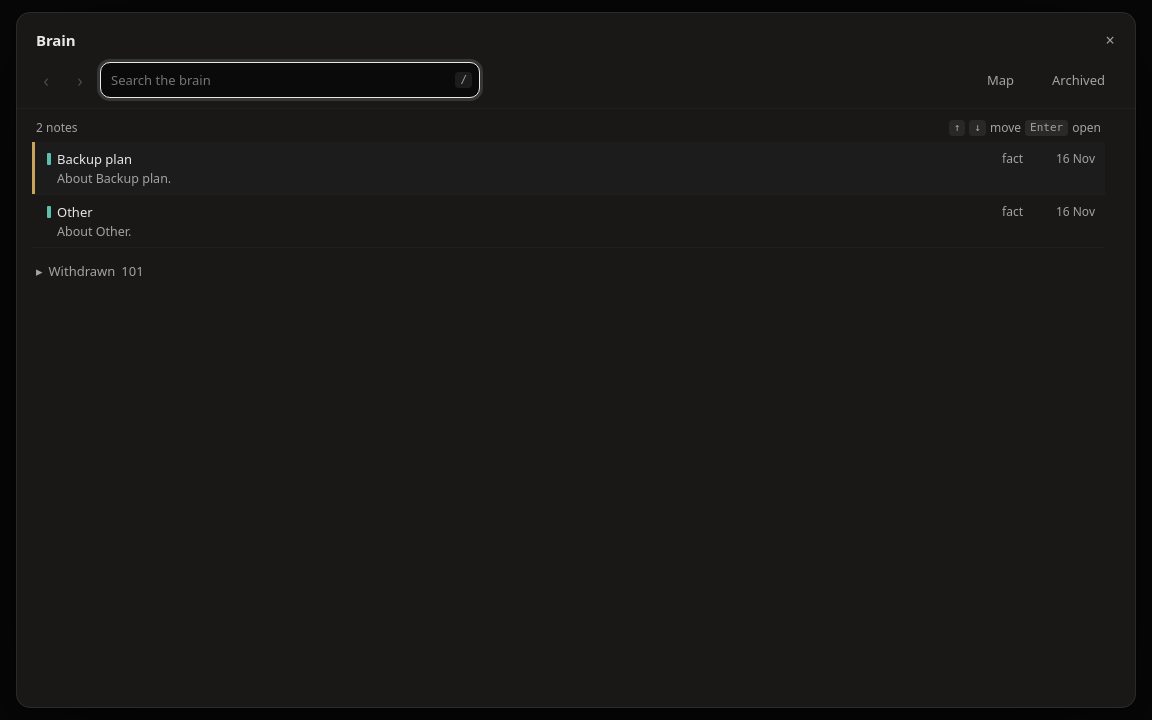
Test: Brain page (128.1) › opens on the list, newest first, with the withdrawn ones folded at its end
Click the button with class "b-fold" at x=90, y=271, box top-left (32, 258), bottom-right (148, 284)
(page scrolled)
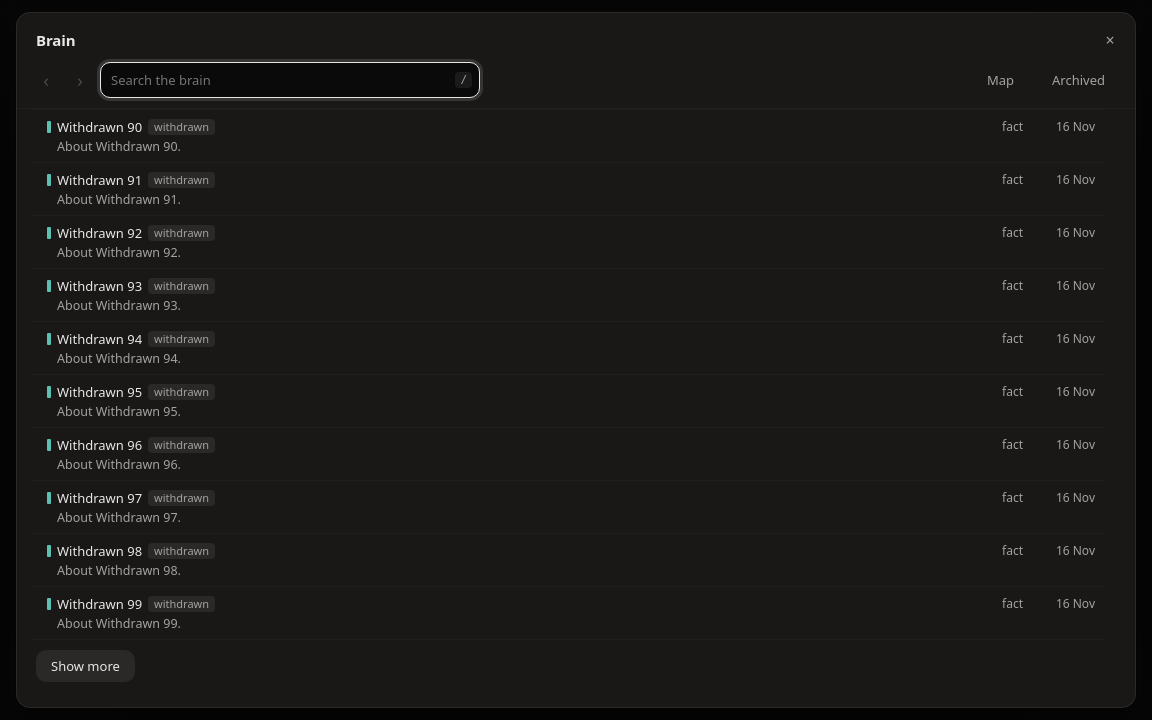
Click the button with class "b-more" at x=85, y=666, box top-left (36, 650), bottom-right (135, 682)
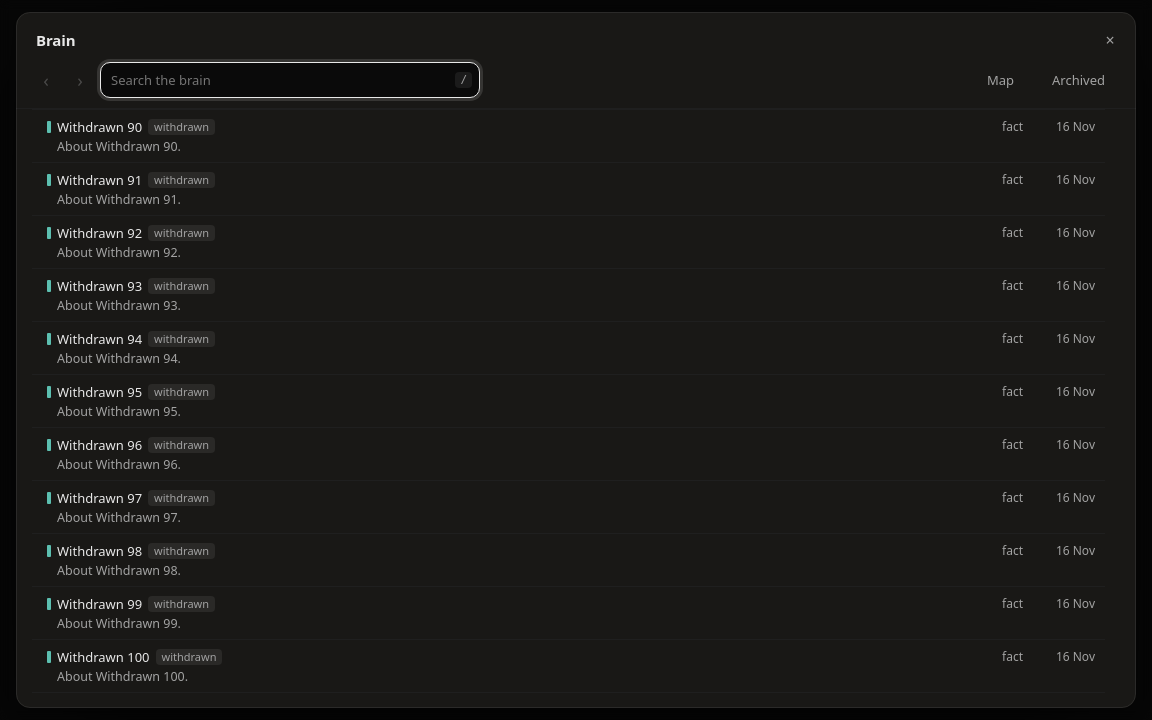
Result: the button with class "b-more" is gone
